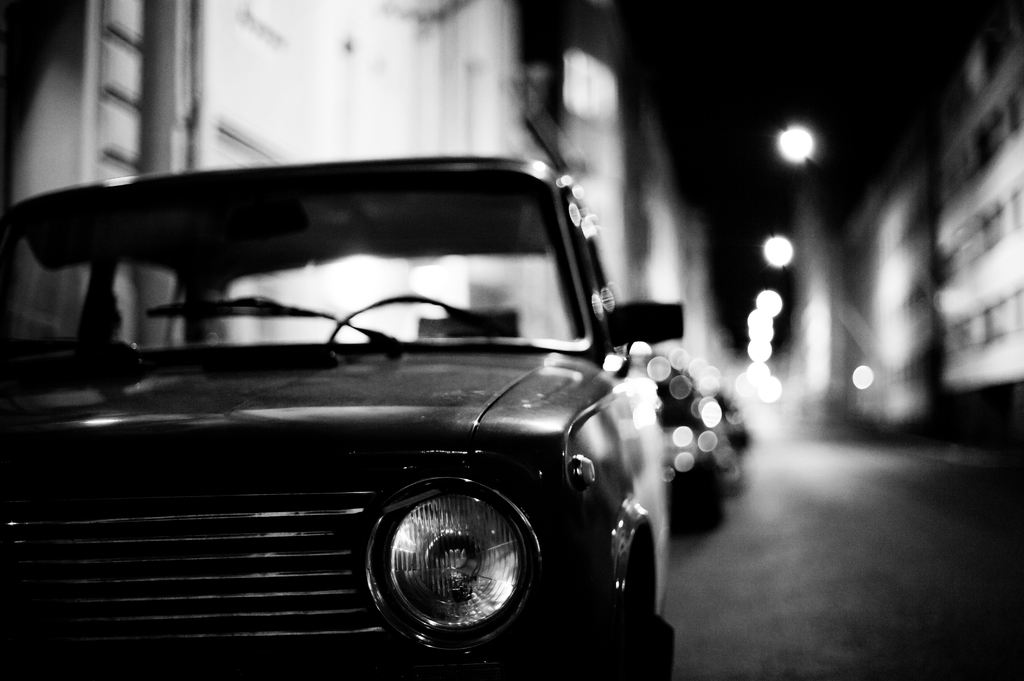Car: (0, 149, 752, 680)
